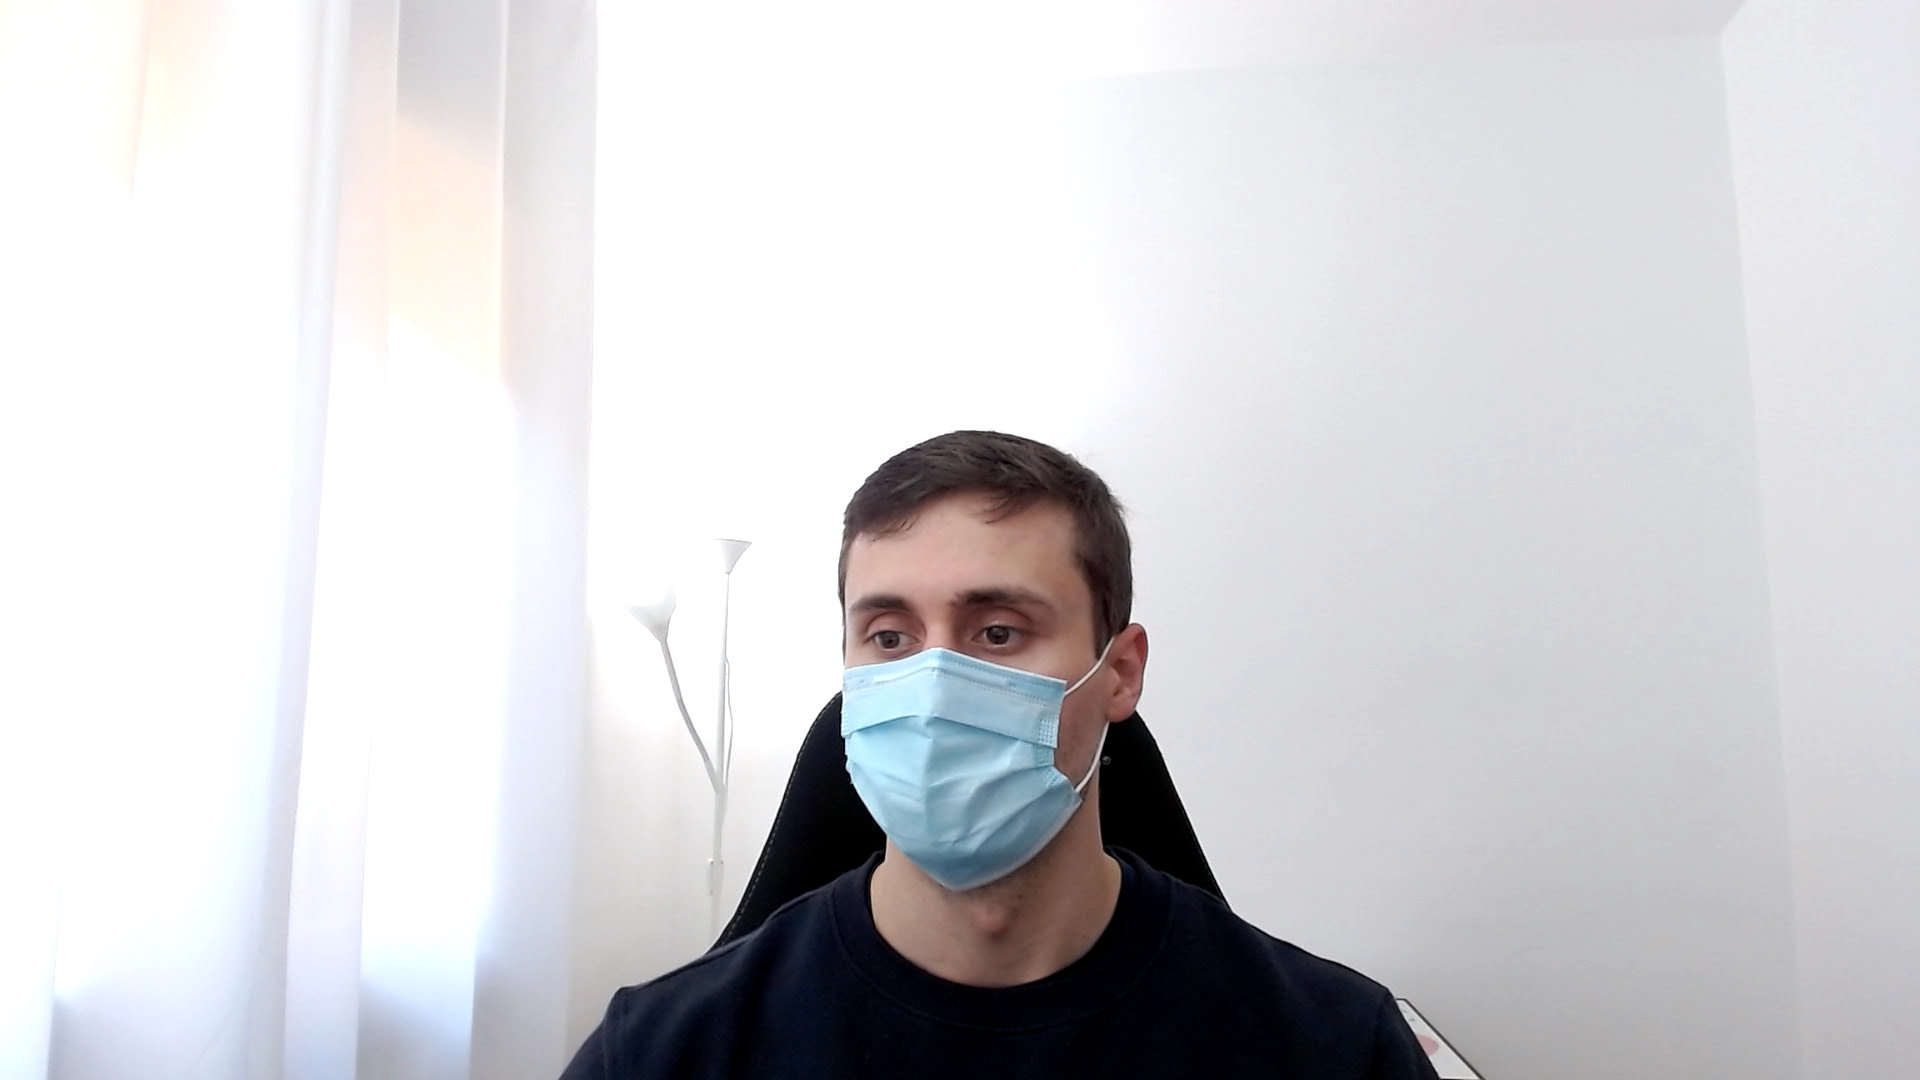Mask: (837, 433, 1149, 891)
